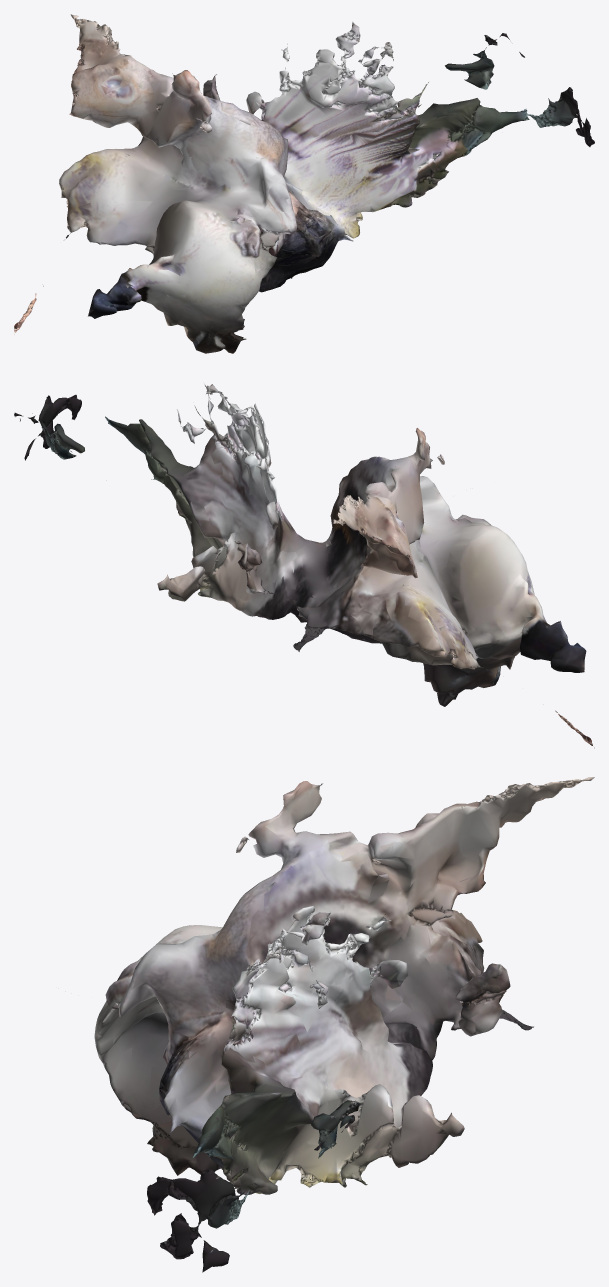
File: rosa.glb
3 renders of one model, top to bottom at view 1: azimuth 30°, elevation 25°; view 2: azimuth 150°, elevation 25°; view 3: azimuth 270°, elevation 25°, orthographic. The views are drawn at different scales.
Visible parts, largest first — view 1: geometry_0; view 2: geometry_0; view 3: geometry_0.
Boxes of the visible parts, left/top/right/bottom form: geometry_0: left=14, top=14, right=594, bottom=353; geometry_0: left=14, top=383, right=594, bottom=748; geometry_0: left=14, top=777, right=594, bottom=1272.
Size of the model in its own units: 0.4992 by 0.23 by 0.3054.
Materials: 1 (1 with a texture image).
